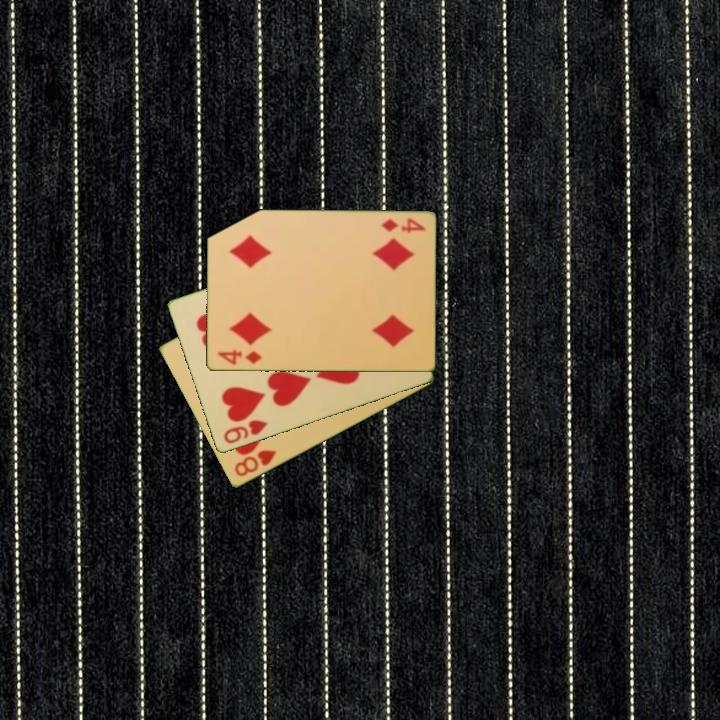4d: (377, 215, 428, 237), (214, 346, 264, 368)
8h: (231, 447, 279, 480)
9h: (220, 416, 270, 447)
